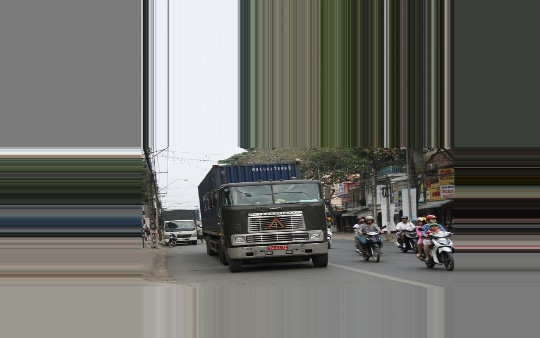plate: (268, 245, 288, 250)
